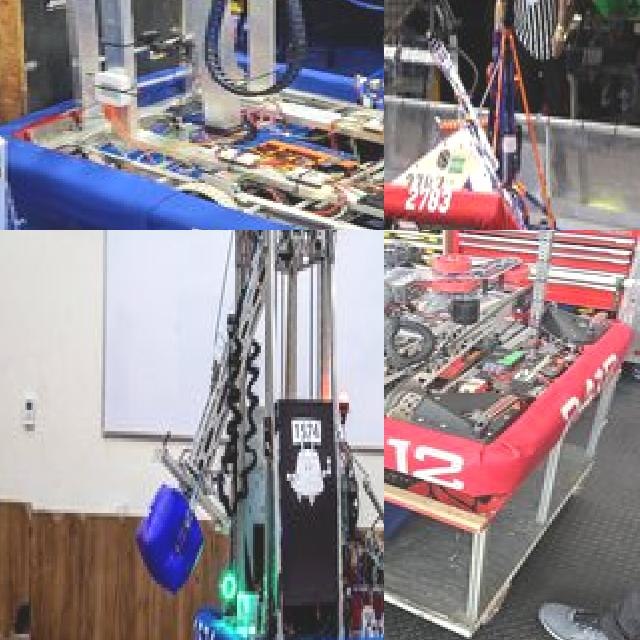FRC-Robots: (113, 230, 384, 640), (0, 0, 384, 230), (384, 230, 640, 528), (384, 0, 600, 230), (427, 12, 636, 230)
